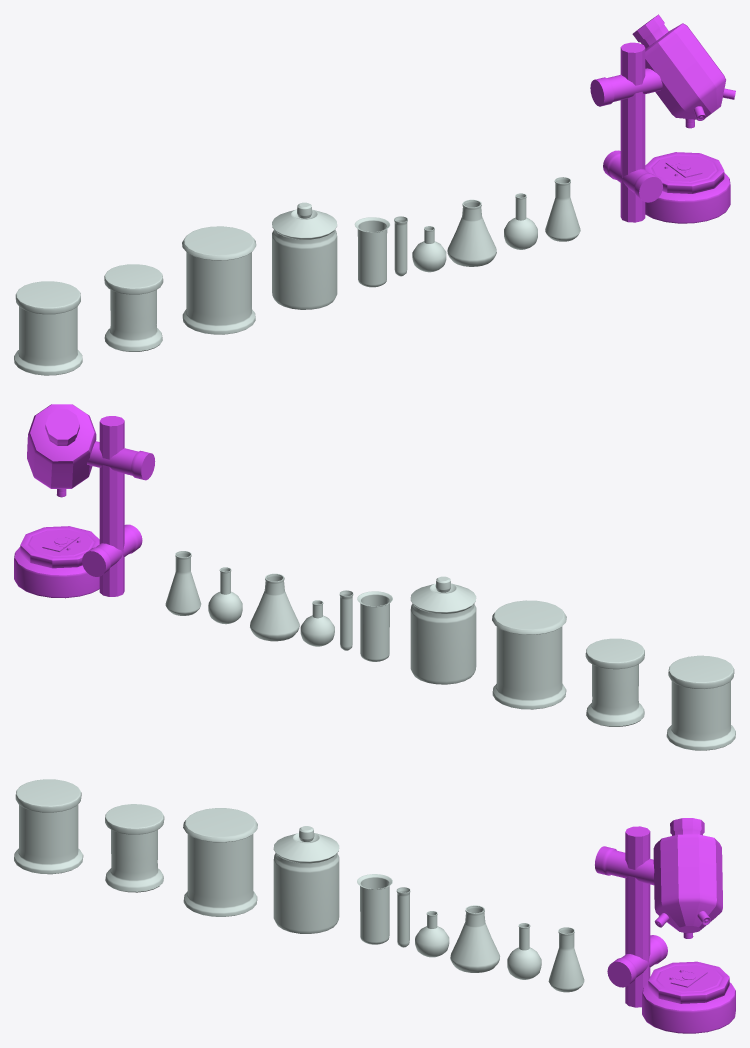
The model's file is Maquina_Provetas.fbx.
3 views of the same model, one above another, from view 1: azimuth 30°, elevation 25°; view 2: azimuth 150°, elevation 25°; view 3: azimuth 330°, elevation 25° (orthographic).
Parts seen in each view (by area): view 1: pCylinder21, pCylinder5, pCylinder7, pCylinder1, pCylinder18, pCylinder4, pCylinder17, pCylinder9, pCylinder15, pCylinder6, pCylinder12, pCylinder2 (+9 smaller); view 2: pCylinder5, pCylinder7, pCylinder1, pCylinder21, pCylinder18, pCylinder4, pCylinder17, pCylinder9, pCylinder15, pCylinder12, pCylinder6, pCylinder2 (+9 smaller); view 3: pCylinder21, pCylinder5, pCylinder7, pCylinder1, pCylinder18, pCylinder17, pCylinder4, pCylinder15, pCylinder9, pCylinder12, pCylinder6, pCylinder2 (+10 smaller).
Boxes of the visible parts, x1,y1,x2,y2 form: pCylinder21: (645,23,725,119); pCylinder5: (182,252,255,334); pCylinder7: (272,229,337,309); pCylinder1: (14,306,82,375); pCylinder18: (620,42,645,222); pCylinder4: (104,289,162,351); pCylinder17: (645,172,730,223); pCylinder9: (447,199,496,266); pCylinder15: (645,152,724,193); pCylinder6: (182,226,256,260); pCylinder12: (354,217,390,287); pCylinder2: (15,281,80,314); pCylinder5: (492,627,566,709); pCylinder7: (410,603,476,684); pCylinder1: (666,681,735,750); pCylinder21: (27,404,96,488); pCylinder18: (99,416,124,596); pCylinder4: (586,664,644,726); pCylinder17: (14,547,99,598); pCylinder9: (250,573,299,641); pCylinder15: (20,526,99,568); pCylinder12: (357,591,392,661); pCylinder6: (492,600,566,634); pCylinder2: (668,655,734,688); pCylinder21: (653,834,722,932); pCylinder5: (183,834,257,916); pCylinder7: (273,853,339,933); pCylinder1: (14,804,83,874); pCylinder18: (625,826,650,1007); pCylinder17: (642,982,735,1033); pCylinder4: (105,830,163,892); pCylinder15: (648,961,729,1003); pCylinder9: (450,905,499,972); pCylinder12: (357,874,392,944); pCylinder6: (183,808,257,842); pCylinder2: (15,779,81,812).
Size of the model in its own units: 24.81 by 6.16 by 3.05.
